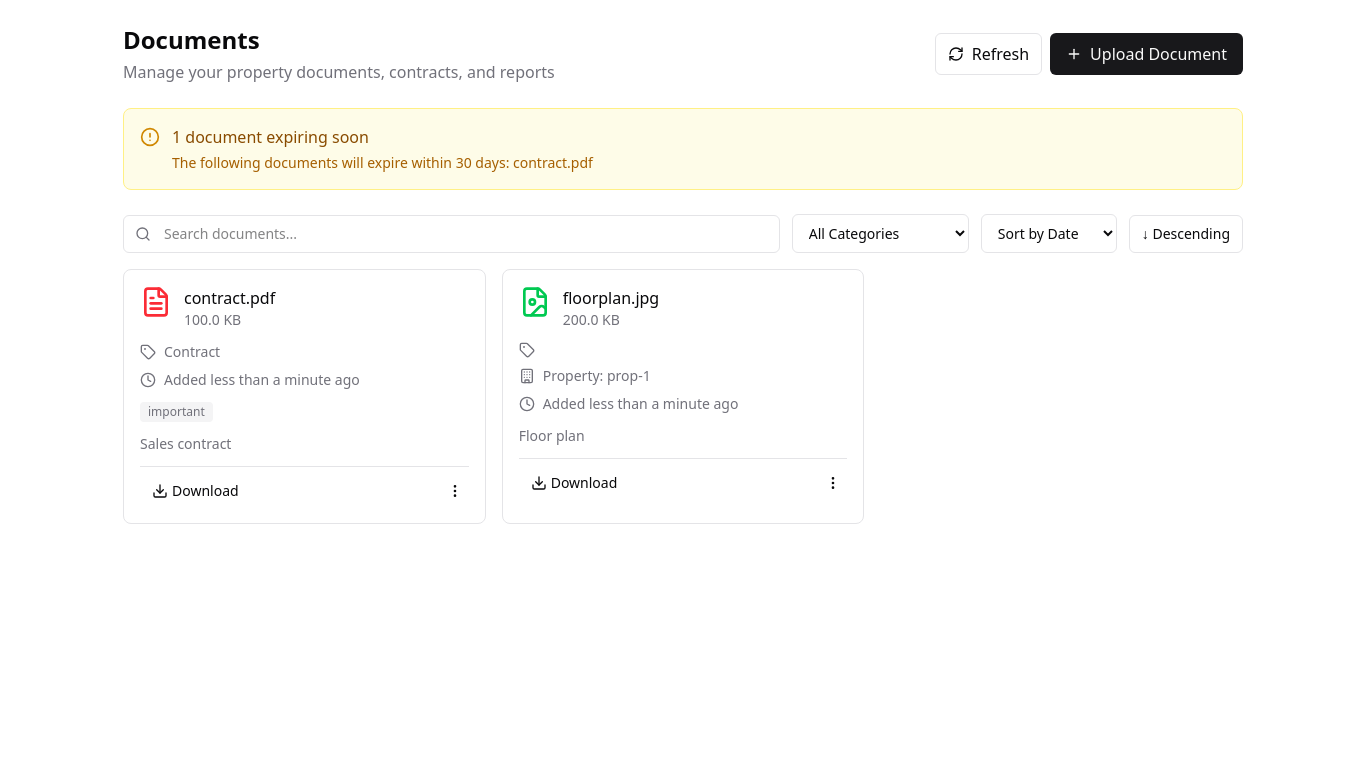
Test: DocumentsPage › opens upload modal when upload button is clicked
This screenshot has width=1366, height=768.
Expected: the heading "Documents" is shown, [123,23,260,56]
// Find the Upload Document button (not the modal heading)
Click the button "Upload Document": {"x": 1147, "y": 54} [1050,33,1243,75]
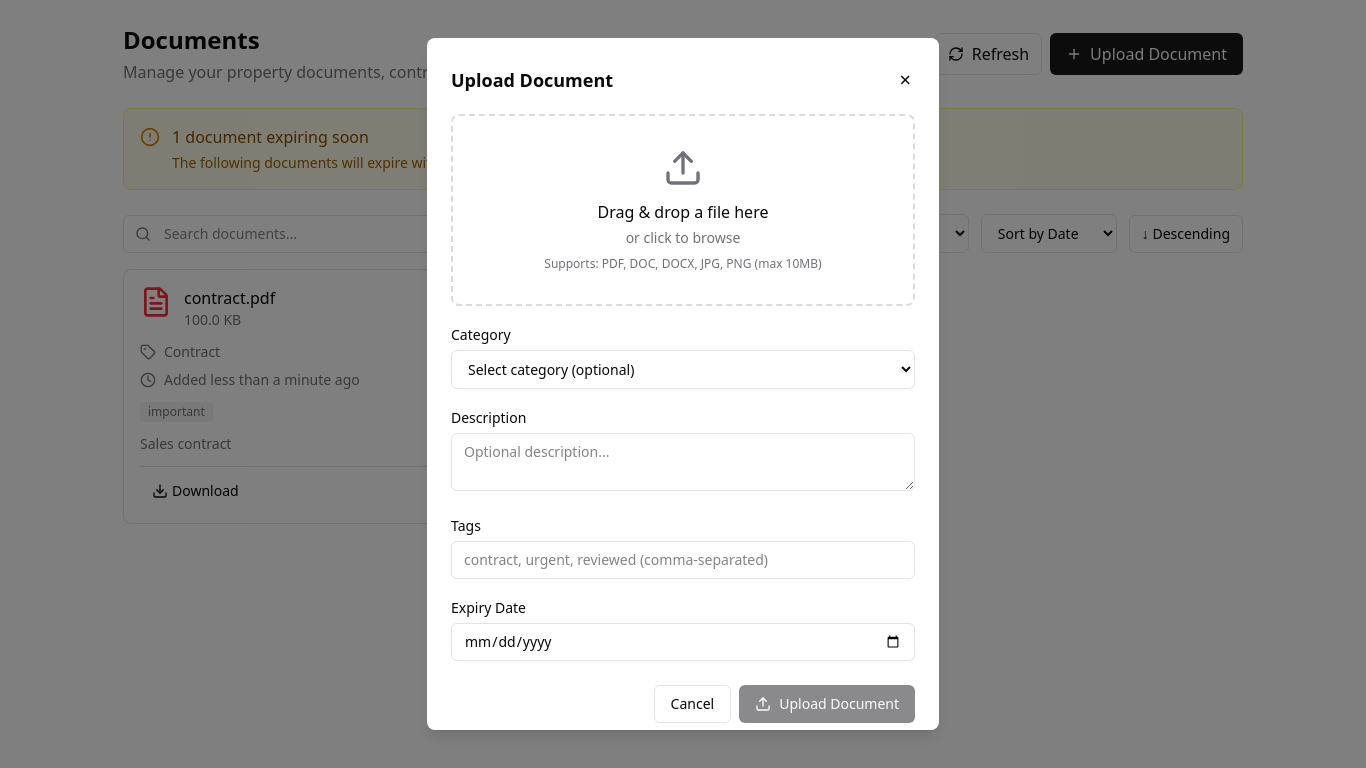
Now the button "×" is shown, box [896,62,915,98]
